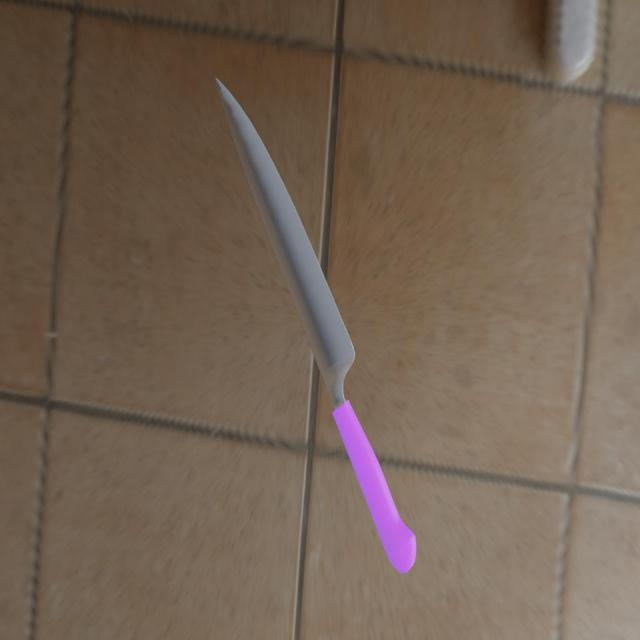knife: (333, 398, 416, 576)
